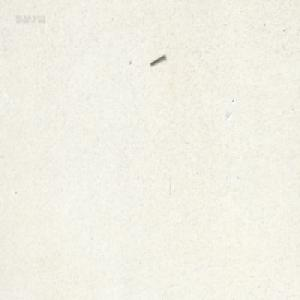Bolt: (149, 54, 165, 66)
